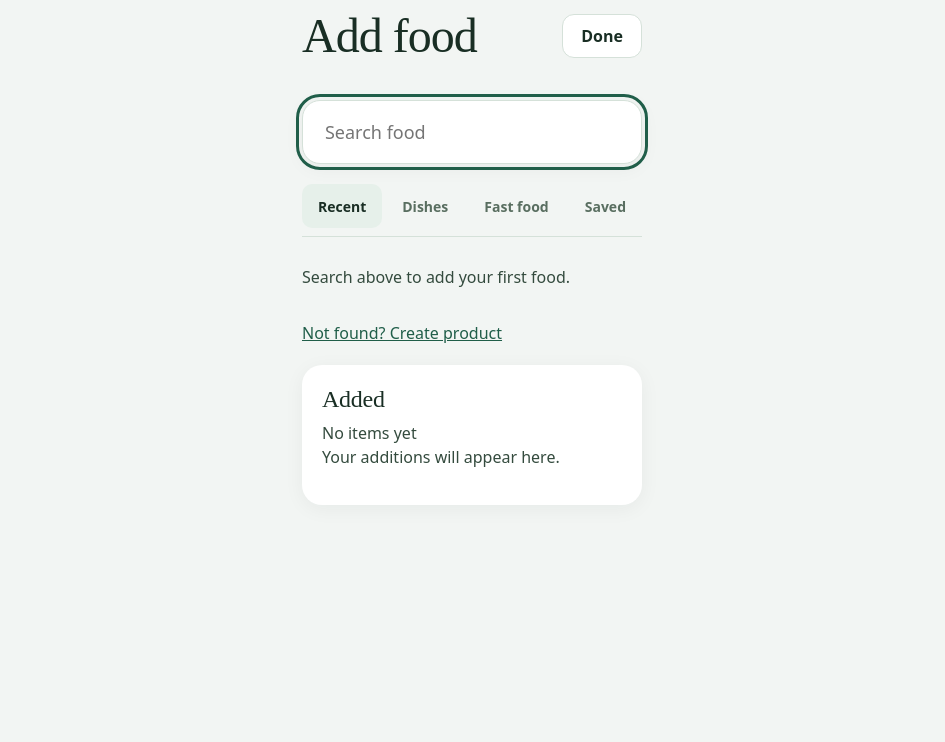
AddPage › successor_button_shows_name_with_fallback_on_error
Type "yog" into the search field labelled "Search food" at (472, 132), box [302,100,642,164]
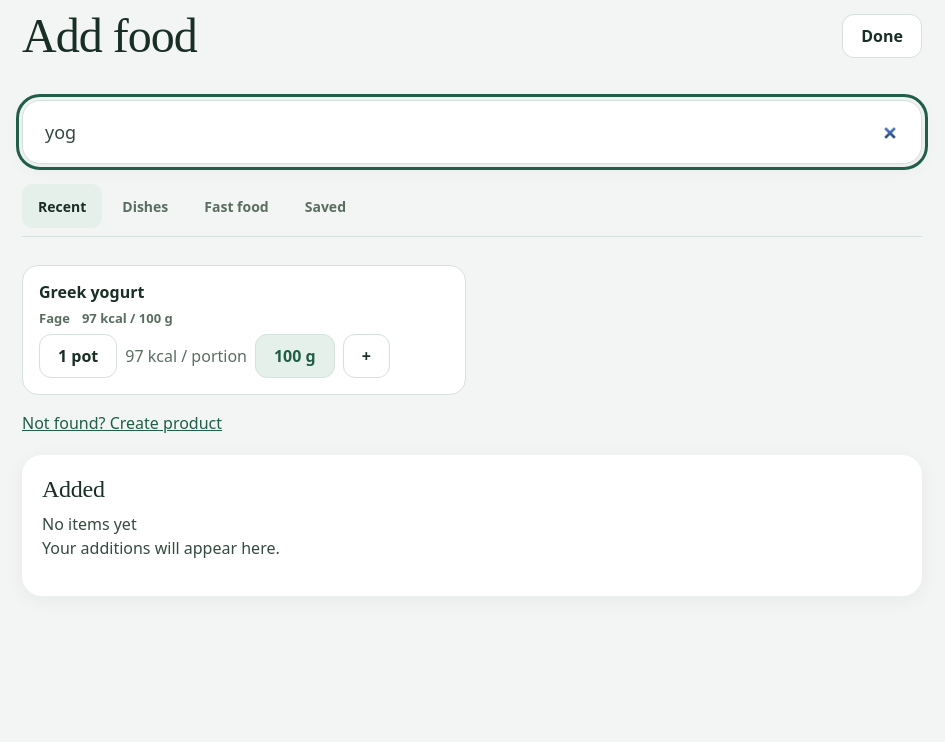
Click the button "Greek yogurt Fage 97 kcal / 100 g" at (92, 292), box [39,282,449,326]
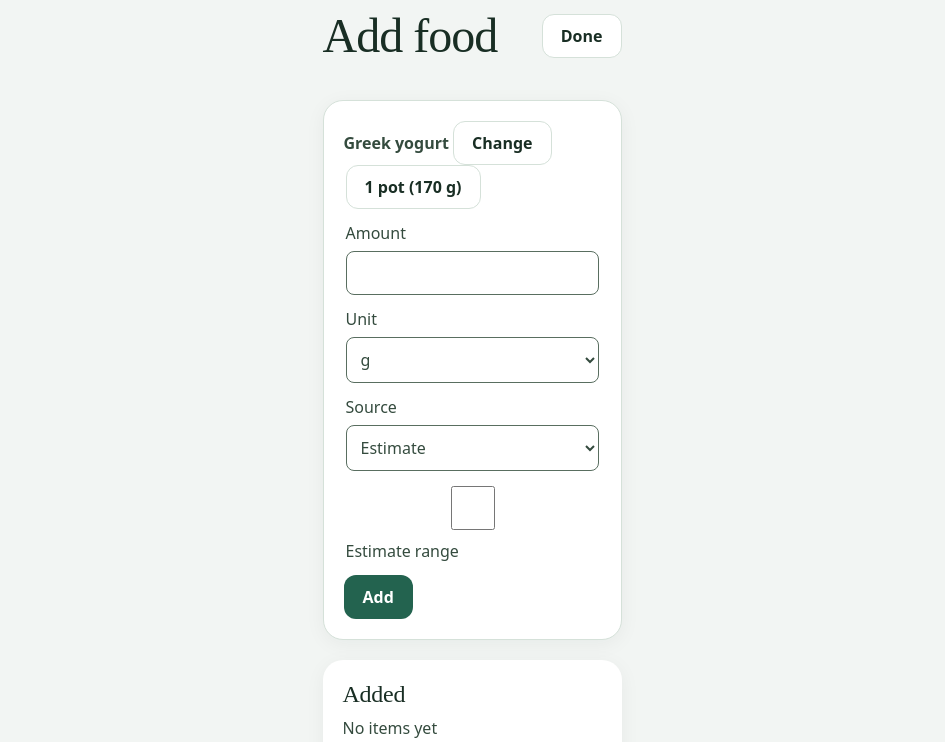
Type "150" into the field labelled "Amount" at (472, 273), box [346,251,598,295]
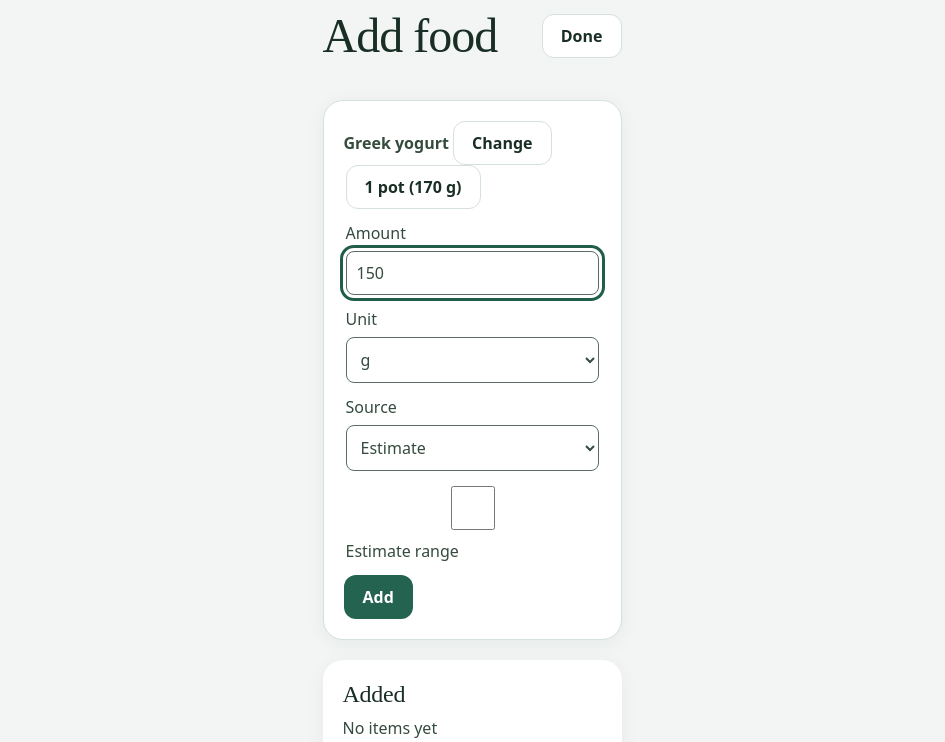
Click the button "Add" at (378, 597), box [344,575,413,619]
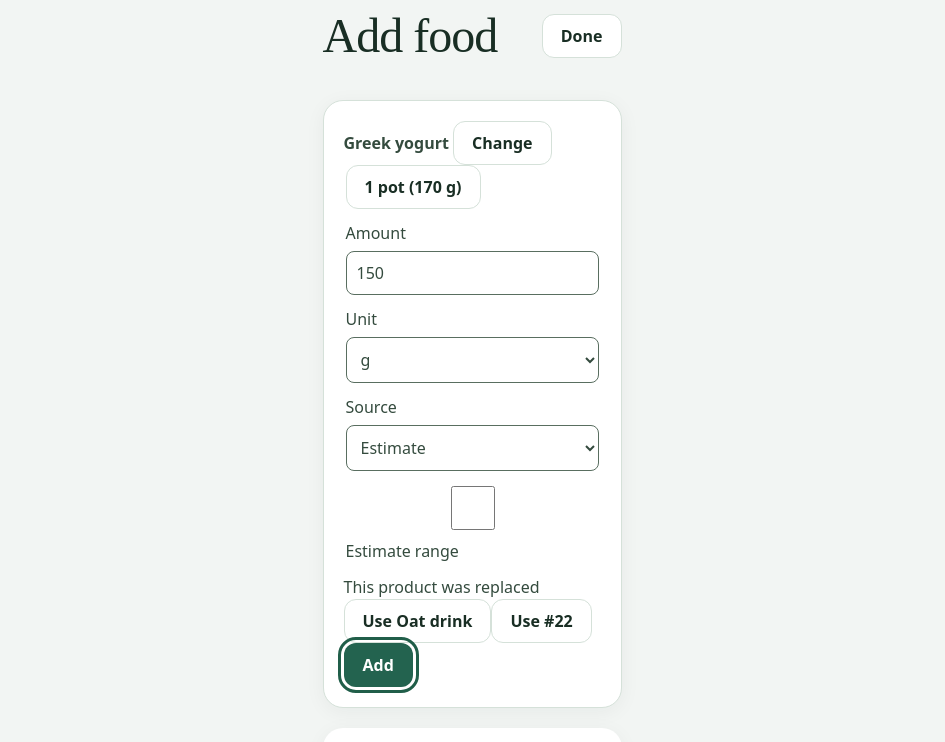
Expected: the button "Use Oat drink" is shown, [344,599,491,643]
Expected: the button "Use #22" is shown, [491,599,592,643]
